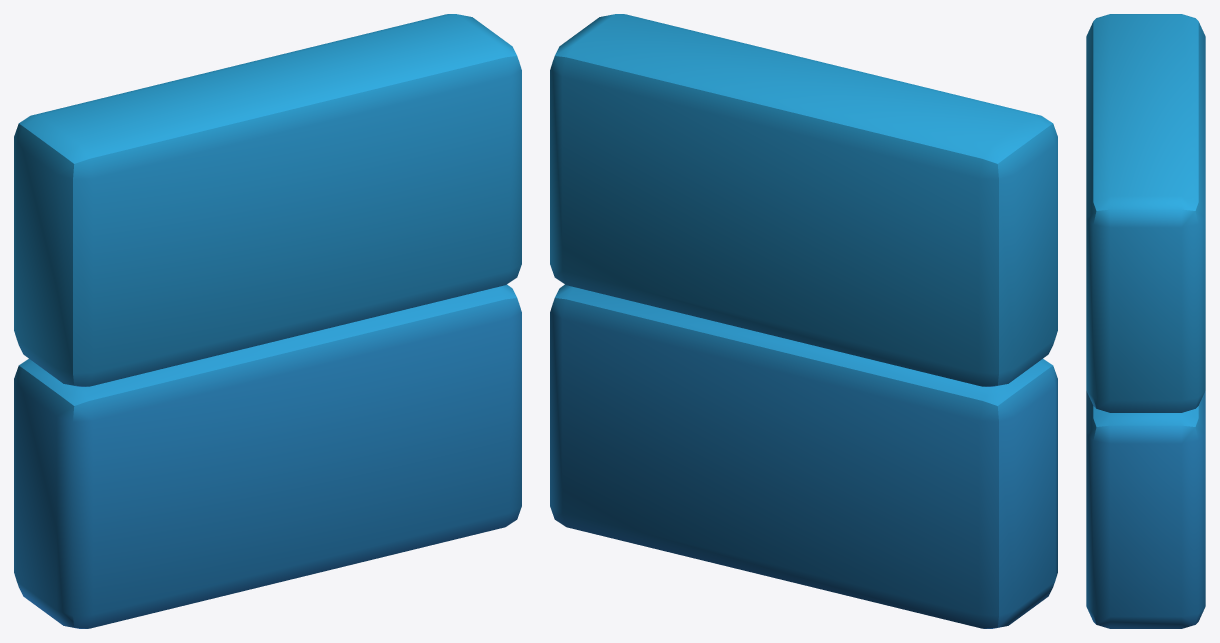
File: kaykit_barrier_4x1x4_blue.glb
The picture shows the model from 3 angles, left to right: view 1: azimuth 30°, elevation 25°; view 2: azimuth 150°, elevation 25°; view 3: azimuth 270°, elevation 25°; orthographic projection. The views are drawn at different scales.
Parts seen in each view (by area): view 1: barrier_4x1x4_blue_visual; view 2: barrier_4x1x4_blue_visual; view 3: barrier_4x1x4_blue_visual.
Boxes of the visible parts, x1,y1,x2,y2 form: barrier_4x1x4_blue_visual: (14,14,521,628); barrier_4x1x4_blue_visual: (550,14,1057,628); barrier_4x1x4_blue_visual: (1086,14,1205,628).
Size of what is drawn, in the model's own units: 4 by 4 by 1.
1 material, 1 textured.
